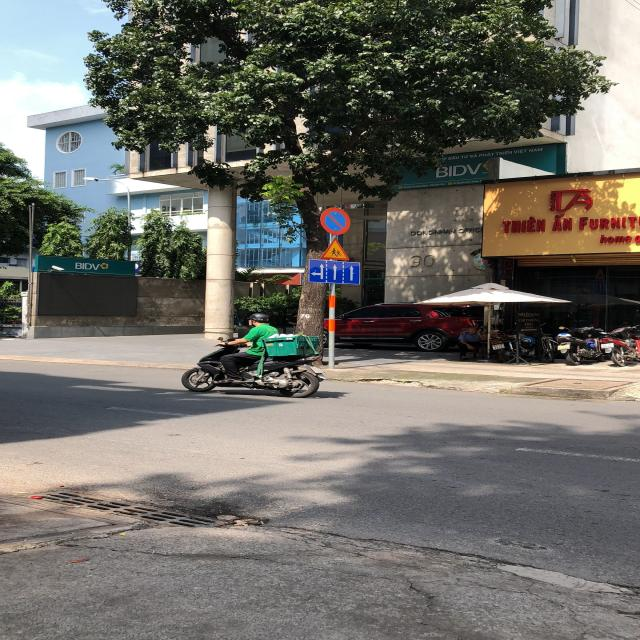Bien bao cam do xe: (313, 204, 355, 236)
Bien bao tre em: (318, 236, 352, 264)
